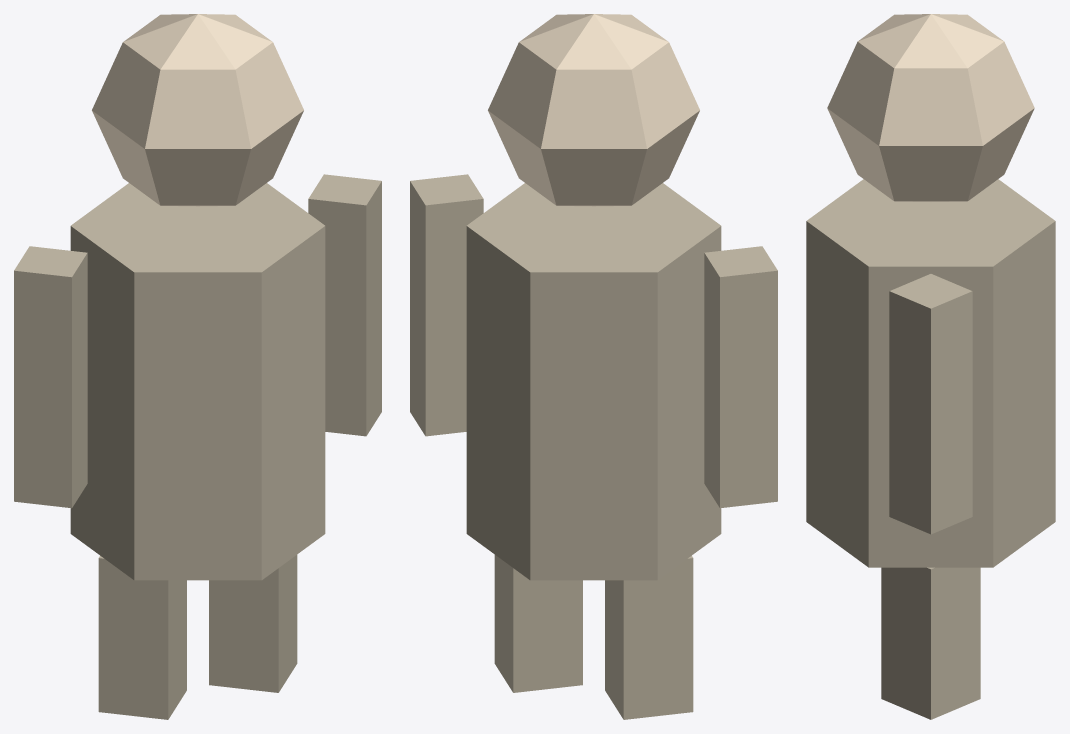
File: engineer.glb
3 views of the same model, side by side, from view 1: azimuth 30°, elevation 25°; view 2: azimuth 150°, elevation 25°; view 3: azimuth 270°, elevation 25° (orthographic). The views are drawn at different scales.
Visible parts, largest first — view 1: engineer_torso, engineer_head, engineer_arm_l, engineer_arm_r, engineer_leg_l, engineer_leg_r; view 2: engineer_torso, engineer_head, engineer_arm_l, engineer_arm_r, engineer_leg_l, engineer_leg_r; view 3: engineer_torso, engineer_head, engineer_arm_r, engineer_leg_r.
Boxes of the visible parts, x1=… form: engineer_torso: x1=70, y1=183, x2=325, y2=580; engineer_head: x1=92, y1=14, x2=303, y2=206; engineer_arm_l: x1=14, y1=246, x2=87, y2=508; engineer_arm_r: x1=308, y1=174, x2=381, y2=436; engineer_leg_l: x1=98, y1=555, x2=186, y2=719; engineer_leg_r: x1=209, y1=555, x2=297, y2=692; engineer_torso: x1=466, y1=183, x2=721, y2=580; engineer_head: x1=488, y1=14, x2=699, y2=206; engineer_arm_l: x1=704, y1=246, x2=777, y2=508; engineer_arm_r: x1=410, y1=174, x2=483, y2=436; engineer_leg_l: x1=605, y1=555, x2=693, y2=719; engineer_leg_r: x1=494, y1=555, x2=582, y2=692; engineer_torso: x1=806, y1=179, x2=1055, y2=567; engineer_head: x1=827, y1=14, x2=1034, y2=201; engineer_arm_r: x1=889, y1=274, x2=972, y2=534; engineer_leg_r: x1=881, y1=567, x2=980, y2=719.
Bounding box in the file's own units: 0.375 × 0.6562 × 0.225.
